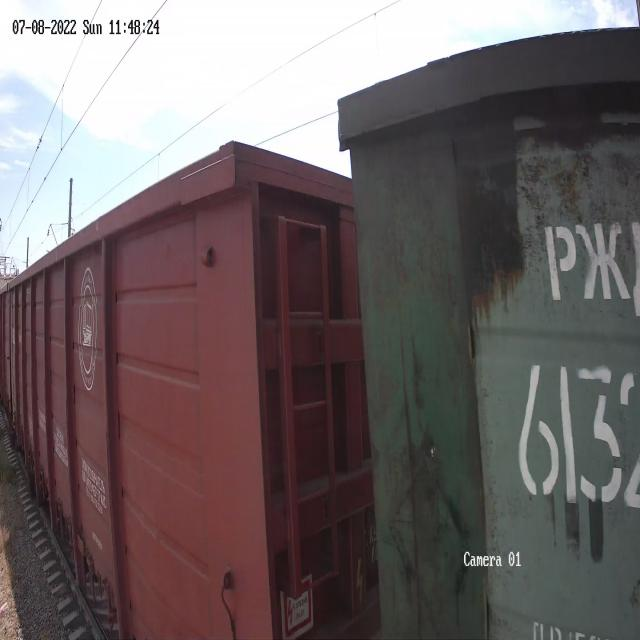gondola: (328, 15, 640, 640), (0, 134, 378, 640)
